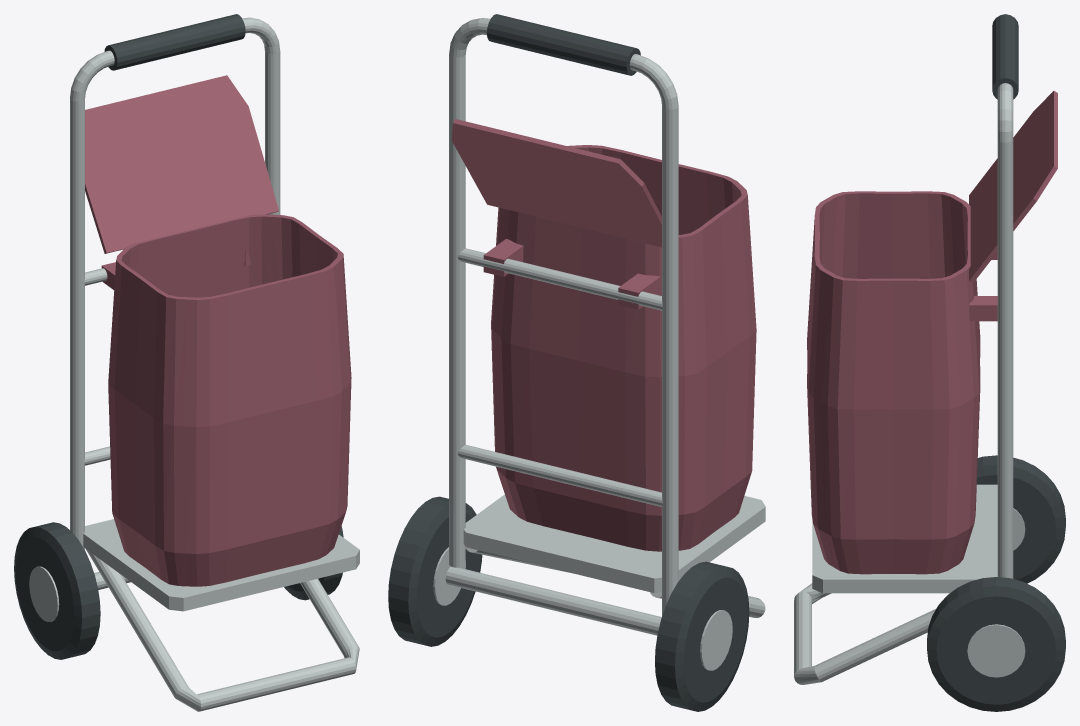
The picture shows the model from 3 angles, left to right: view 1: azimuth 30°, elevation 25°; view 2: azimuth 150°, elevation 25°; view 3: azimuth 270°, elevation 25°; orthographic projection. The views are drawn at different scales.
Visible parts, largest first — view 1: WholeClosedBottomOpenMouthSoftBag, WholeRaisedRearBagFlap, WholeRoundedUprightTrolleyFrame, WholeLeftBroadTyre, WholeBentForwardParkingFoot, WholeShortUnderBagSupport, WholeFixedTopHandGrip, WholeLeftHub, WholeRightBroadTyre; view 2: WholeClosedBottomOpenMouthSoftBag, WholeRoundedUprightTrolleyFrame, WholeRaisedRearBagFlap, WholeShortUnderBagSupport, WholeLeftBroadTyre, WholeRightBroadTyre, WholeTransverseWheelAxle, WholeFixedTopHandGrip, WholeLowerRearCrossRail, WholeUpperRearCrossRail, WholeLeftHub, WholeLeftRearBagMount (+3 smaller); view 3: WholeClosedBottomOpenMouthSoftBag, WholeRightBroadTyre, WholeRoundedUprightTrolleyFrame, WholeRaisedRearBagFlap, WholeShortUnderBagSupport, WholeLeftBroadTyre, WholeBentForwardParkingFoot, WholeRightHub, WholeFixedTopHandGrip, WholeRightRearBagMount.
Part boxes in pixels (x1,y1,x2,y2): WholeClosedBottomOpenMouthSoftBag: [108, 214, 351, 586]; WholeRaisedRearBagFlap: [85, 75, 278, 253]; WholeRoundedUprightTrolleyFrame: [70, 17, 280, 549]; WholeLeftBroadTyre: [14, 522, 100, 659]; WholeBentForwardParkingFoot: [86, 549, 359, 711]; WholeShortUnderBagSupport: [83, 519, 359, 611]; WholeFixedTopHandGrip: [104, 14, 245, 70]; WholeLeftHub: [29, 566, 59, 621]; WholeRightBroadTyre: [284, 526, 343, 600]; WholeClosedBottomOpenMouthSoftBag: [491, 145, 756, 551]; WholeRoundedUprightTrolleyFrame: [449, 18, 678, 615]; WholeRaisedRearBagFlap: [451, 119, 661, 247]; WholeShortUnderBagSupport: [463, 494, 765, 592]; WholeLeftBroadTyre: [655, 561, 749, 711]; WholeRightBroadTyre: [388, 496, 482, 646]; WholeTransverseWheelAxle: [445, 566, 661, 635]; WholeFixedTopHandGrip: [487, 14, 640, 75]; WholeLowerRearCrossRail: [457, 444, 662, 506]; WholeUpperRearCrossRail: [457, 248, 662, 310]; WholeLeftHub: [700, 610, 732, 670]; WholeLeftRearBagMount: [618, 273, 660, 309]; WholeClosedBottomOpenMouthSoftBag: [807, 191, 980, 574]; WholeRightBroadTyre: [927, 577, 1065, 711]; WholeRoundedUprightTrolleyFrame: [997, 14, 1013, 578]; WholeRaisedRearBagFlap: [969, 91, 1057, 283]; WholeShortUnderBagSupport: [812, 484, 997, 593]; WholeLeftBroadTyre: [976, 455, 1065, 583]; WholeBentForwardParkingFoot: [794, 583, 935, 684]; WholeRightHub: [967, 624, 1025, 677]; WholeFixedTopHandGrip: [992, 14, 1018, 99]; WholeRightRearBagMount: [969, 296, 997, 321].
Bounding box in the file's own units: 0.53 × 1.1 × 0.4499.
